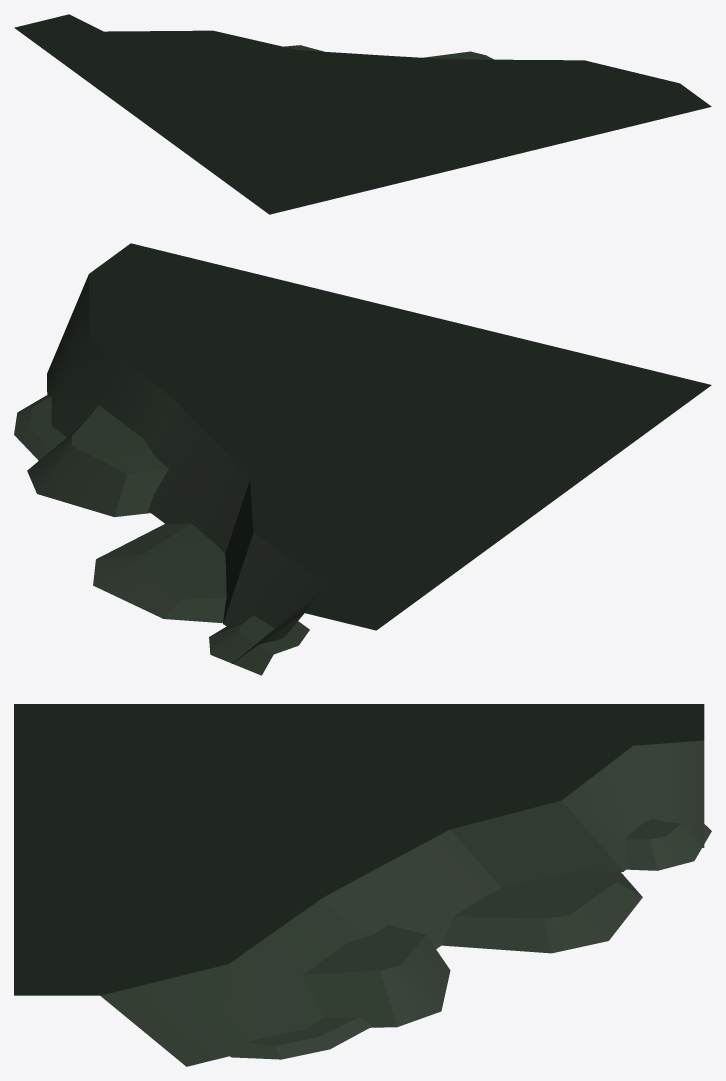
File: SF_Env_River_Corner_04.glb
3 renders of one model, top to bottom at view 1: azimuth 30°, elevation 25°; view 2: azimuth 150°, elevation 25°; view 3: azimuth 270°, elevation 25°, orthographic. The views are drawn at different scales.
Parts seen in each view (by area): view 1: SF_Env_River_Corner_04; view 2: SF_Env_River_Corner_04; view 3: SF_Env_River_Corner_04.
Part boxes in pixels (<box>): SF_Env_River_Corner_04: <box>14,14,711,214</box>; SF_Env_River_Corner_04: <box>14,243,711,675</box>; SF_Env_River_Corner_04: <box>14,704,711,1066</box>.
Bounding box in the file's own units: 0.2 × 0.0233 × 0.2023.
Materials: 1 (1 with a texture image).
